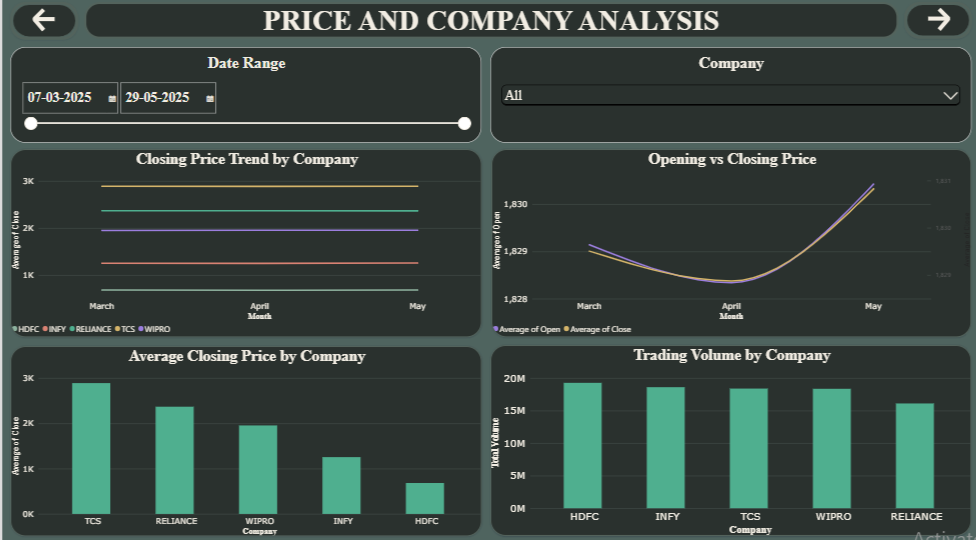

What the dashboard file says about the page in this screenshot:
{"tool":"powerbi","page":{"name":"Price & Company Analysis","canvas":[1920,1080],"ordinal":1},"visuals":[{"type":"lineChart","title":"Closing Price Trend by Company","fields":{"Category":["Date_table.Date.Variation.Date Hierarchy.Month"],"Y":["Avg(stock_market_dataset.Close)"],"Series":["Company.Company"]},"box":[15,302.5,926,370],"z":0},{"type":"lineChart","title":"Opening vs Closing Price","fields":{"Category":["Date_table.Date.Variation.Date Hierarchy.Month"],"Y":["Avg(stock_market_dataset.Open)"],"Y2":["Avg(stock_market_dataset.Close)"]},"box":[960,302.5,942.5,370],"z":1000},{"type":"clusteredColumnChart","title":"Average Closing Price by Company","fields":{"Category":["Company.Company"],"Y":["Avg(stock_market_dataset.Close)"]},"box":[16.2,688.8,926.2,373.8],"z":2000},{"type":"clusteredColumnChart","title":"Trading Volume by Company","fields":{"Category":["Company.Company"],"Y":["Company.Total Volume"]},"box":[958.9,688.1,945.3,374.5],"z":3000},{"type":"slicer","title":"Date Range","fields":{"Values":["Date_table.Date"]},"box":[15,102.5,925,187.5],"z":4000},{"type":"slicer","title":"Company","fields":{"Values":["Company.Company"]},"box":[957.5,102.5,945,187.5],"z":5000},{"type":"textbox","box":[160.6,13.1,1599,71.7],"z":6000},{"type":"actionButton","box":[1770.7,13.1,133.3,71.7],"z":7000},{"type":"actionButton","box":[16.3,13.6,133.4,73.5],"z":8000}]}

Visuals, with their boxes in screenshot pixels (x1, y1, x2, y2), scaled from the page's 1920x1080 canvas onto the 976x540 screenshot:
"Closing Price Trend by Company" lineChart: 8/151/478/336
"Opening vs Closing Price" lineChart: 488/151/967/336
"Average Closing Price by Company" clusteredColumnChart: 8/344/479/531
"Trading Volume by Company" clusteredColumnChart: 487/344/968/531
"Date Range" slicer: 8/51/478/145
"Company" slicer: 487/51/967/145
textbox: 82/7/894/42
actionButton: 900/7/968/42
actionButton: 8/7/76/44
